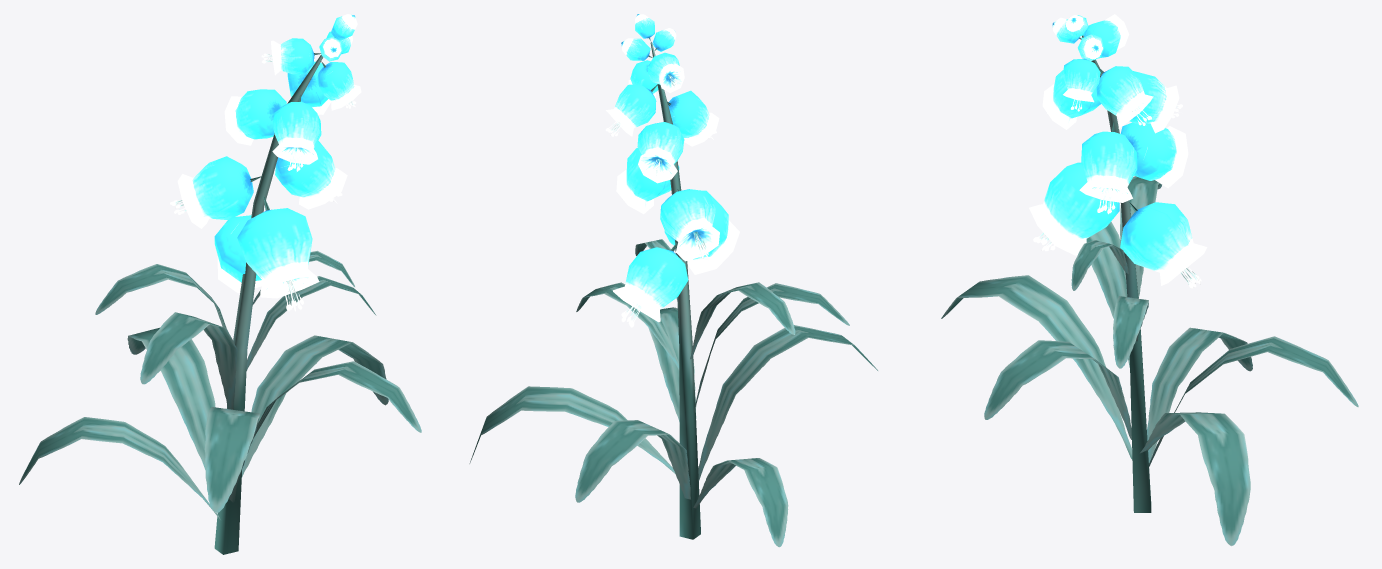
The model's file is SM_ENV_flower_ancient_01_01.fbx.
3 views of the same model, side by side, from view 1: azimuth 30°, elevation 25°; view 2: azimuth 150°, elevation 25°; view 3: azimuth 270°, elevation 25° (orthographic). The views are drawn at different scales.
Visible parts, largest first — view 1: SM_ENV_flower_ancient_01_01_LOD0; view 2: SM_ENV_flower_ancient_01_01_LOD0; view 3: SM_ENV_flower_ancient_01_01_LOD0.
Part boxes in pixels (box(x1,y1,x2,y2)): SM_ENV_flower_ancient_01_01_LOD0: box(19, 14, 421, 554); SM_ENV_flower_ancient_01_01_LOD0: box(469, 14, 877, 547); SM_ENV_flower_ancient_01_01_LOD0: box(941, 14, 1358, 546).
Bounding box in the file's own units: 43.07 × 58.08 × 43.79.
